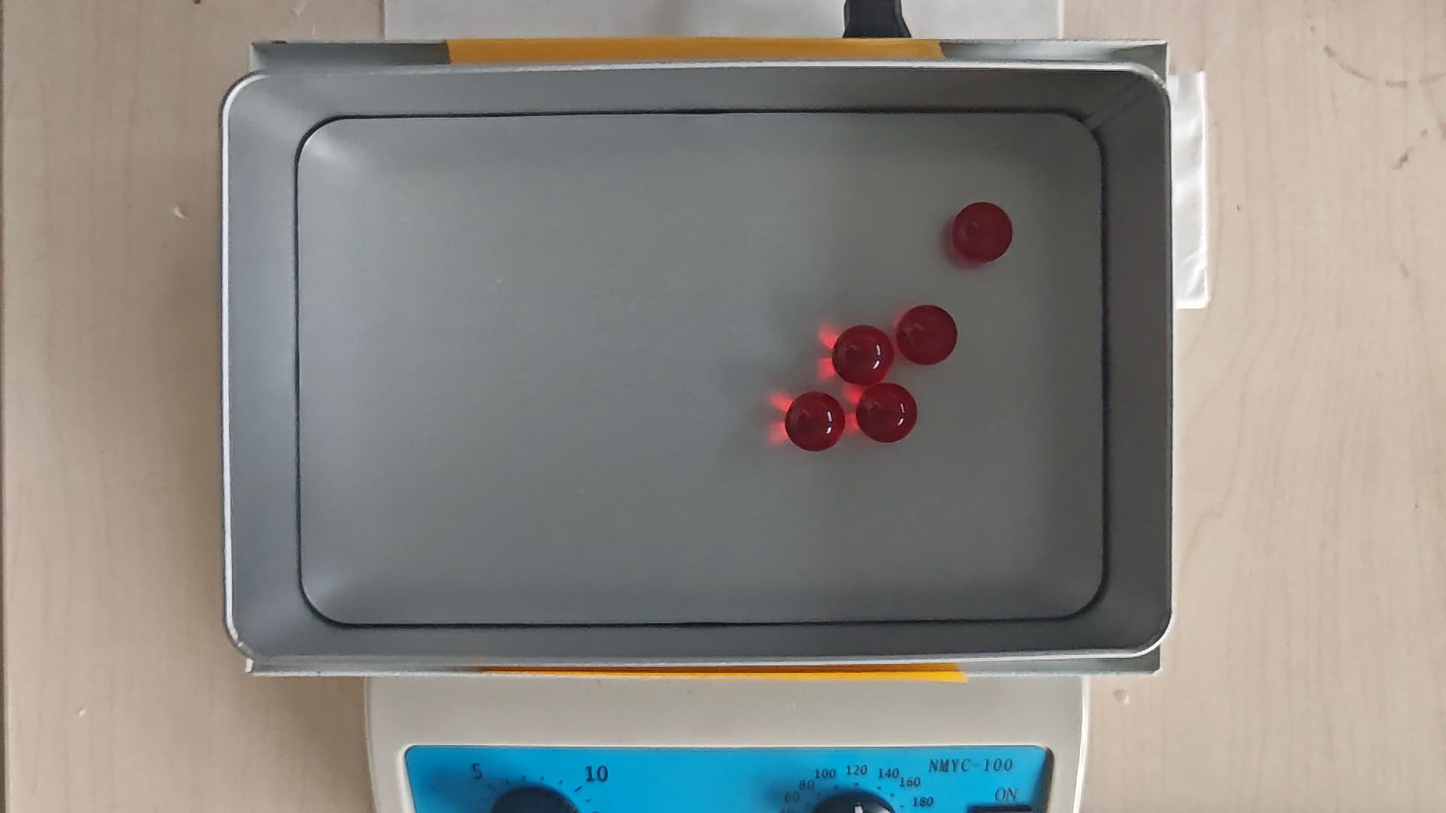ball: (832, 324, 895, 385), (857, 383, 917, 445), (953, 202, 1014, 262), (898, 305, 957, 364), (787, 391, 843, 450)
container: (290, 111, 1103, 622)
